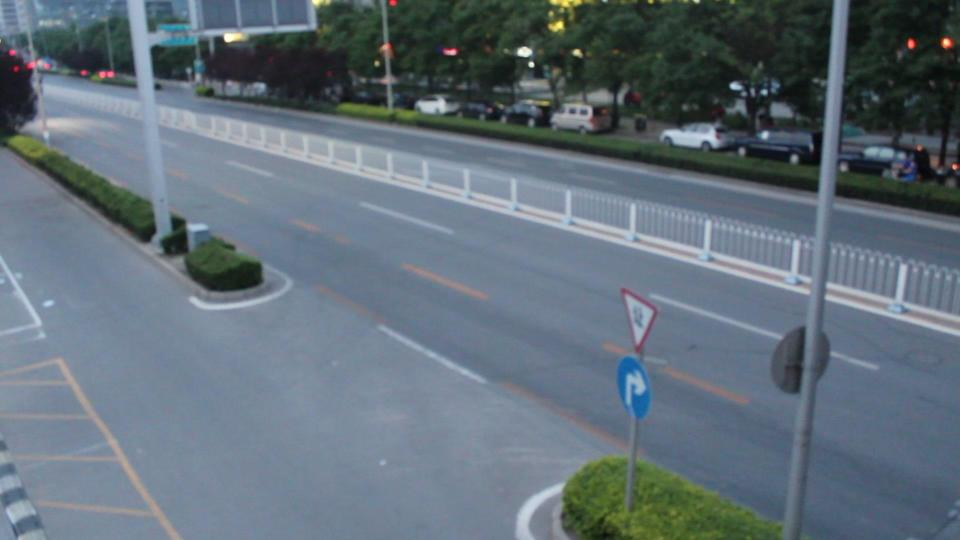car: (837, 136, 917, 176), (737, 128, 818, 165), (660, 123, 742, 153), (551, 104, 616, 135), (501, 101, 547, 126), (414, 95, 463, 116), (454, 101, 504, 120)
person: (911, 143, 936, 184), (947, 161, 960, 188)
sign: (602, 359, 657, 428), (615, 283, 662, 362)
